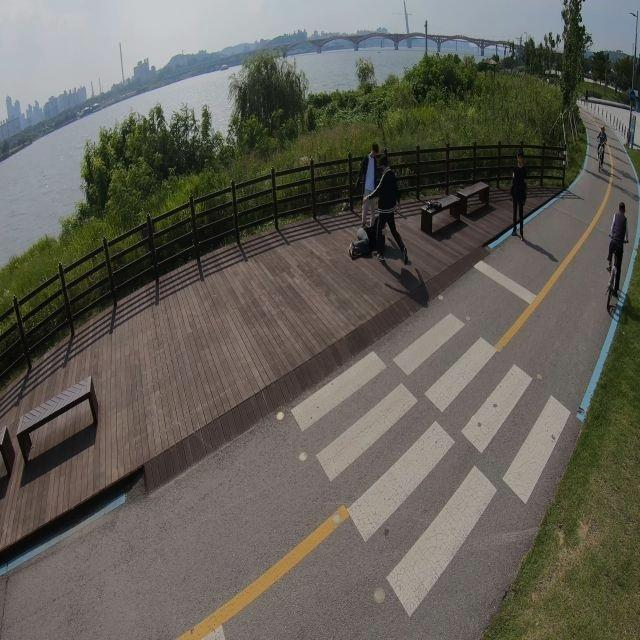fight: (349, 143, 408, 266)
non-fight: (508, 150, 529, 240)
